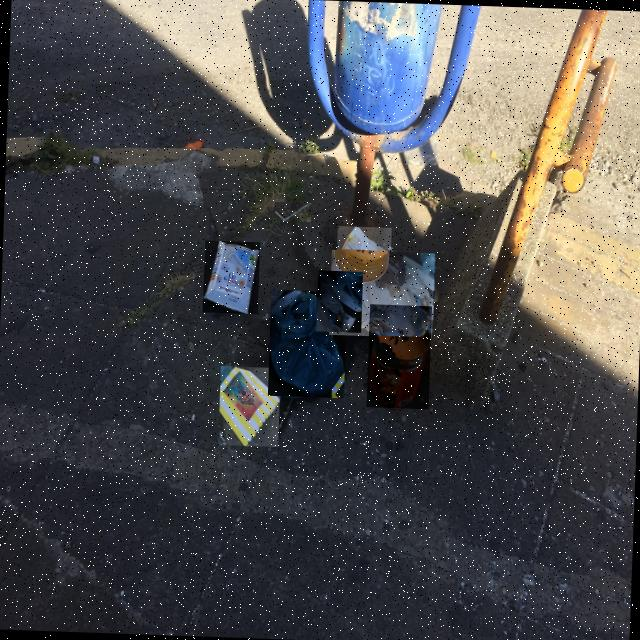Drink carton: (203, 240, 259, 313)
Food Can: (367, 305, 430, 408)
Meal carton: (219, 367, 279, 445)
Other plastic bottle: (185, 139, 203, 151)
Plastic film: (318, 270, 361, 332), (337, 227, 390, 260)
Plastic straw: (275, 204, 311, 220)
Single-use carrier bag: (332, 251, 433, 337), (269, 291, 344, 397)
